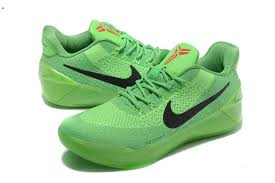nike: (163, 82, 230, 131), (63, 61, 141, 88)
